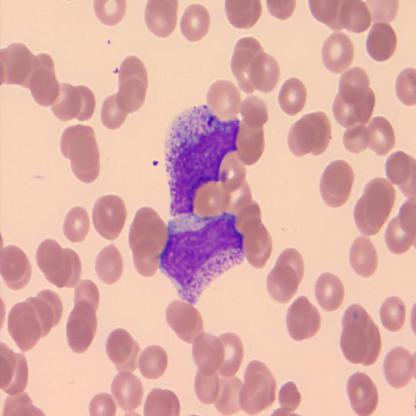Myelocyte: (163, 105, 233, 210), (164, 215, 246, 302)
